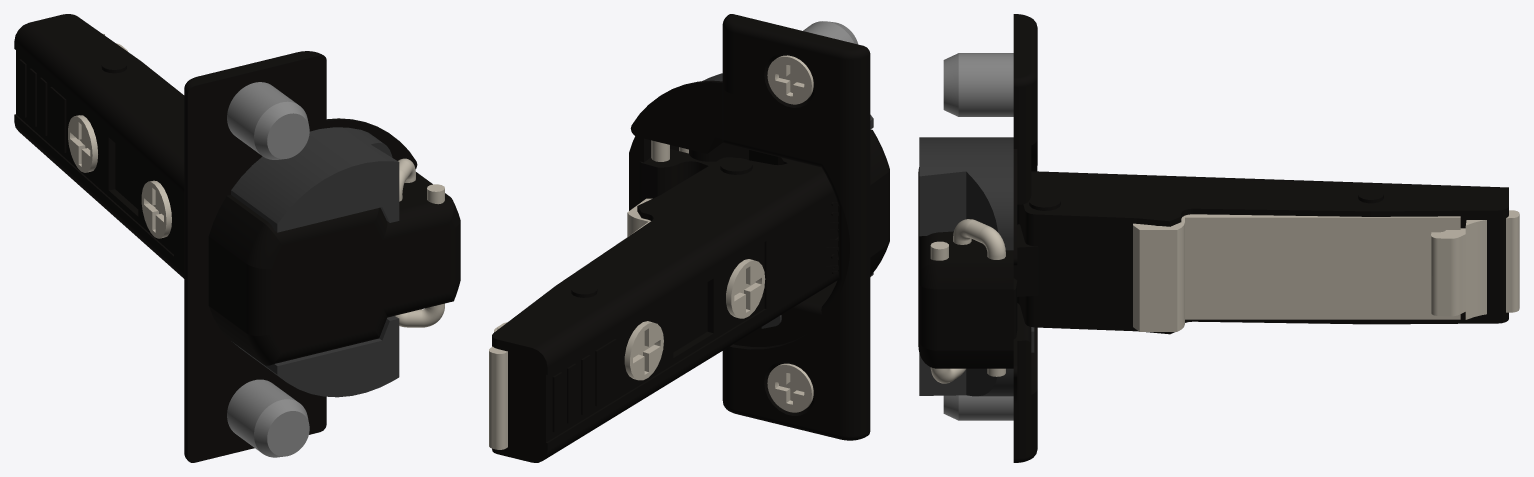
The picture shows the model from 3 angles, left to right: view 1: azimuth 30°, elevation 25°; view 2: azimuth 150°, elevation 25°; view 3: azimuth 270°, elevation 25°; orthographic projection. The views are drawn at different scales.
Parts seen in each view (by area): view 1: bau0015089612-2, bau0015088251-1, bau0059100308-2, bau0059100308-1; view 2: bau0015088251-1, bau0015089612-2, bau0059100308-1, bau0019416036-1, bau0015088853-1, bau0059100308-2, bau0015088783-1; view 3: bau0019416036-1, bau0015088251-1, bau0015089612-2, bau0059100308-1, bau0059100308-2, bau0015088853-1.
Boxes of the visible parts, x1,y1,x2,y2 form: bau0015089612-2: (184, 51, 460, 462); bau0015088251-1: (14, 14, 184, 278); bau0059100308-2: (227, 379, 309, 457); bau0059100308-1: (227, 82, 309, 159); bau0015088251-1: (492, 157, 838, 462); bau0015089612-2: (629, 14, 889, 440); bau0059100308-1: (767, 21, 858, 104); bau0019416036-1: (489, 198, 652, 449); bau0015088853-1: (639, 149, 715, 202); bau0059100308-2: (767, 363, 813, 412); bau0015088783-1: (689, 143, 792, 164); bau0019416036-1: (1133, 210, 1519, 331); bau0015088251-1: (1017, 171, 1508, 334); bau0015089612-2: (918, 14, 1037, 462); bau0059100308-1: (943, 53, 1013, 116); bau0059100308-2: (943, 395, 1013, 420); bau0015088853-1: (1013, 224, 1038, 338).
Bounding box in the file's own units: 36.9 × 57 × 80.73.
